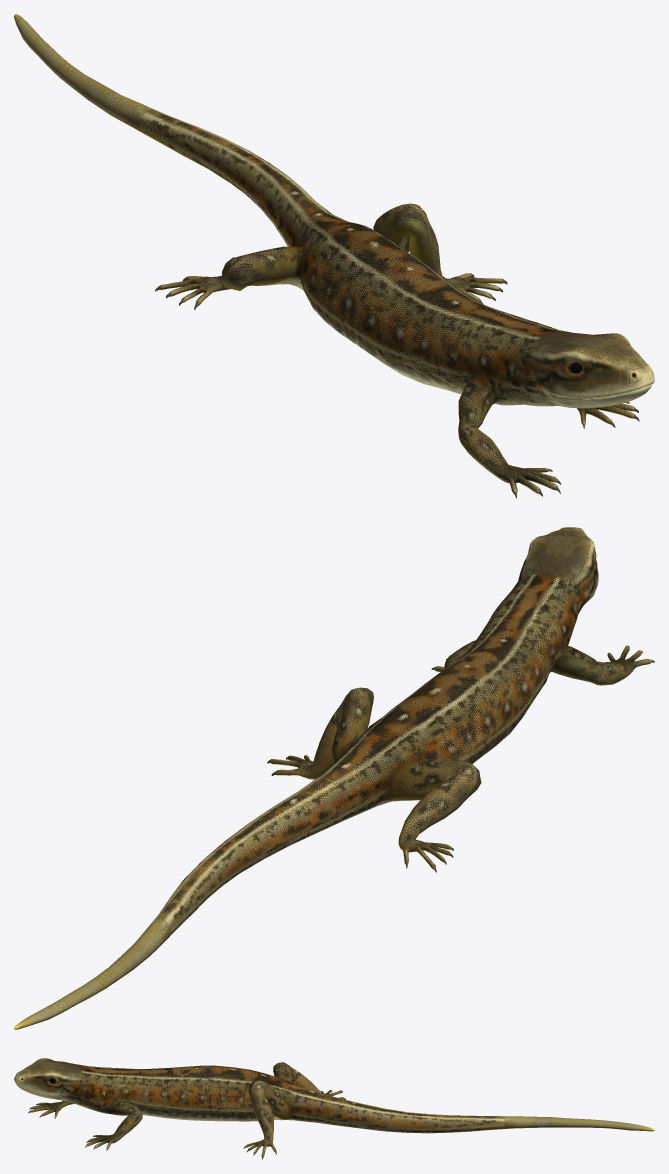
File: Standing46.obj
3 views of the same model, one above another, from view 1: azimuth 30°, elevation 25°; view 2: azimuth 150°, elevation 25°; view 3: azimuth 270°, elevation 25° (orthographic). The views are drawn at different scales.
Parts seen in each view (by area): view 1: Lizard; view 2: Lizard; view 3: Lizard.
Part boxes in pixels (x1,y1,x2,y2): Lizard: (14,14,654,498); Lizard: (14,527,654,1029); Lizard: (14,1058,654,1159).
Bounding box in the file's own units: 25.67 × 11.66 × 104.
